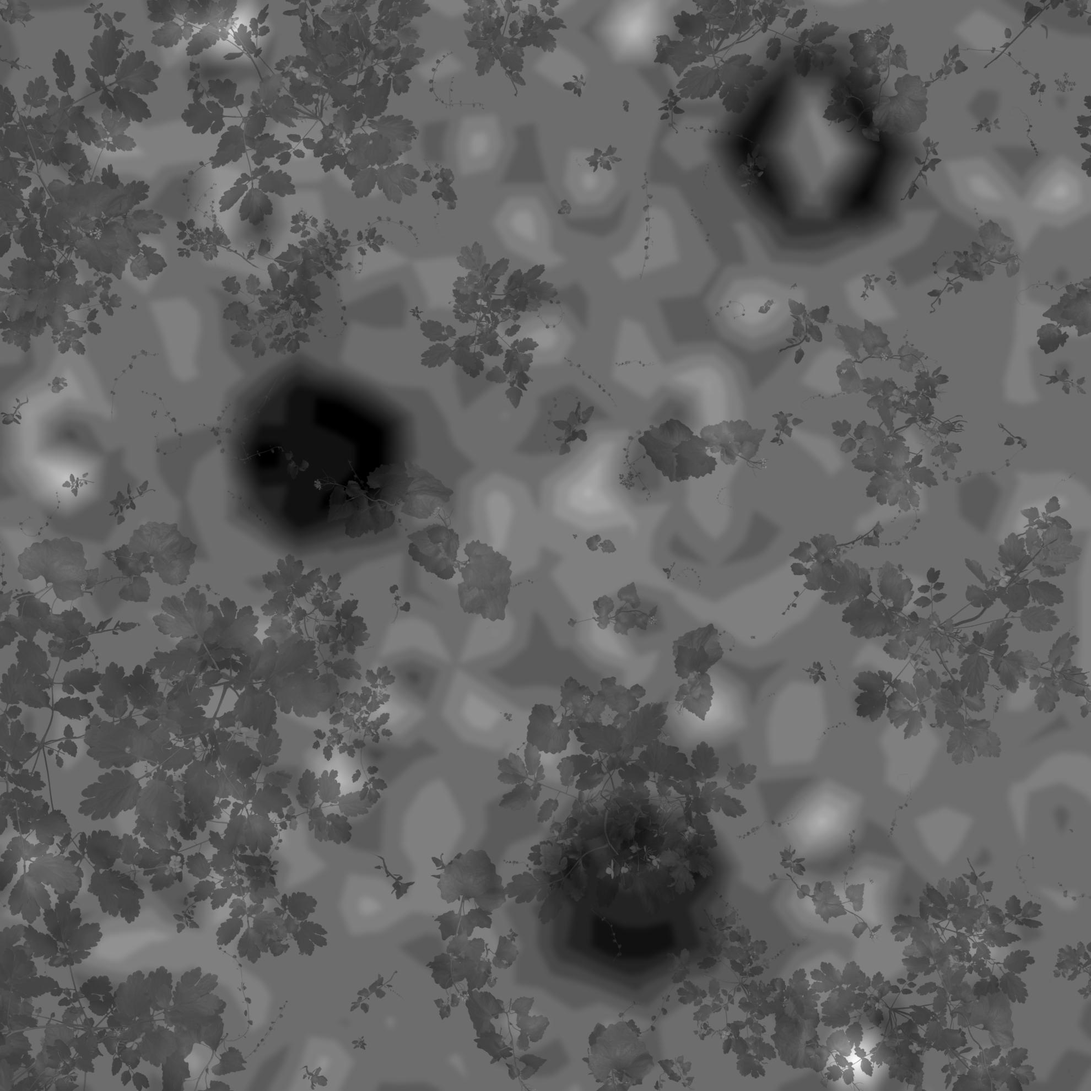landmine: (715, 60, 911, 240), (543, 807, 718, 973), (242, 370, 399, 533)
